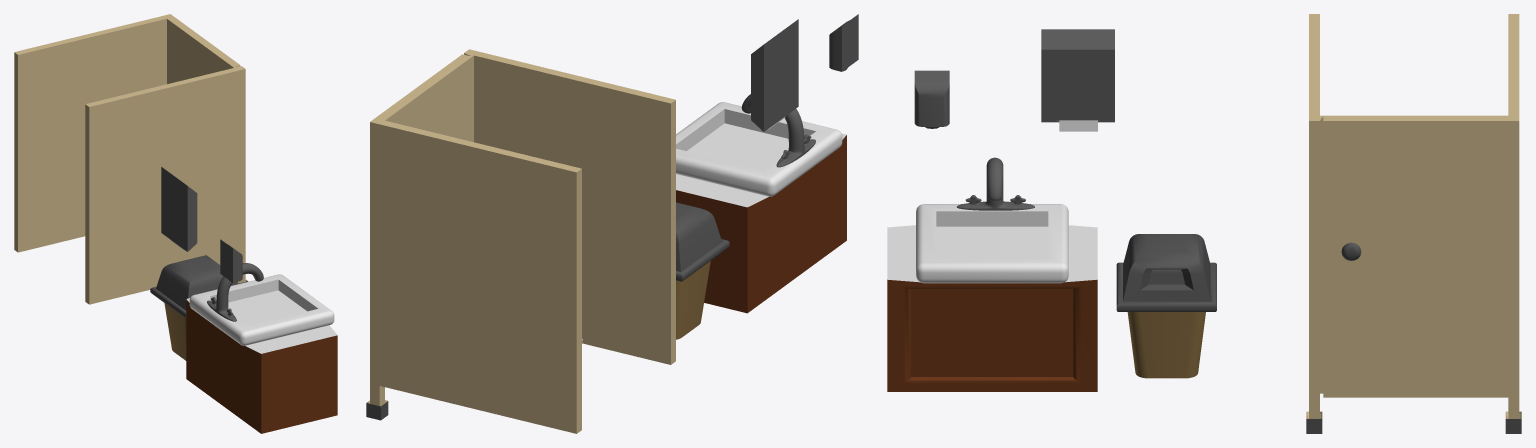
File: Banheiro.fbx
The picture shows the model from 3 angles, left to right: view 1: azimuth 30°, elevation 25°; view 2: azimuth 150°, elevation 25°; view 3: azimuth 270°, elevation 25°; orthographic projection. The views are drawn at different scales.
Visible parts, largest first — view 1: Cube.090, Cube.105, Cube.094, Cube.093, Circle.016, Cube.092; view 2: Cube.090, Cube.105, Cube.094, Cube.093, Cube.092, Circle.016; view 3: Cube.090, Cube.105, Cube.094, Cube.093, Cube.092, Circle.016.
Boxes of the visible parts, box(x1,y1,x2,y2) form: Cube.090: box(14, 14, 247, 304); Cube.105: box(186, 274, 337, 433); Cube.094: box(150, 255, 236, 360); Cube.093: box(161, 167, 197, 251); Circle.016: box(207, 263, 263, 321); Cube.092: box(220, 239, 242, 282); Cube.090: box(366, 49, 675, 433); Cube.105: box(676, 102, 846, 313); Cube.094: box(676, 202, 729, 339); Cube.093: box(751, 19, 798, 131); Cube.092: box(829, 14, 858, 71); Circle.016: box(741, 94, 815, 167); Cube.090: box(1306, 14, 1521, 433); Cube.105: box(887, 204, 1097, 391); Cube.094: box(1116, 234, 1216, 378); Cube.093: box(1041, 29, 1114, 131); Cube.092: box(914, 70, 949, 128); Circle.016: box(957, 157, 1034, 210).
Bounding box in the file's own units: 1147 × 1529 × 2818.
